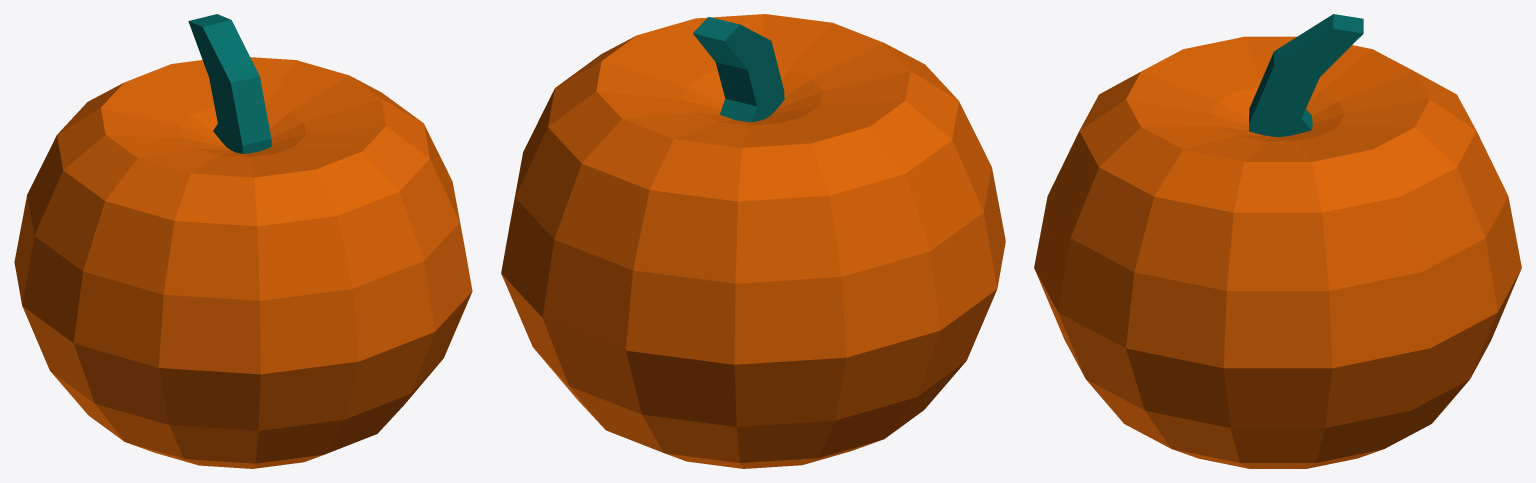
Rendered from pumpkin.fbx.
3 views of the same model, side by side, from view 1: azimuth 30°, elevation 25°; view 2: azimuth 150°, elevation 25°; view 3: azimuth 270°, elevation 25° (orthographic). The views are drawn at different scales.
Visible parts, largest first — view 1: Sphere; view 2: Sphere; view 3: Sphere.
Part boxes in pixels (x1=…): Sphere: x1=14, y1=14, x2=472, y2=468; Sphere: x1=501, y1=14, x2=1005, y2=468; Sphere: x1=1034, y1=14, x2=1521, y2=468.
Size of the model in its own units: 422 by 387 by 433.
